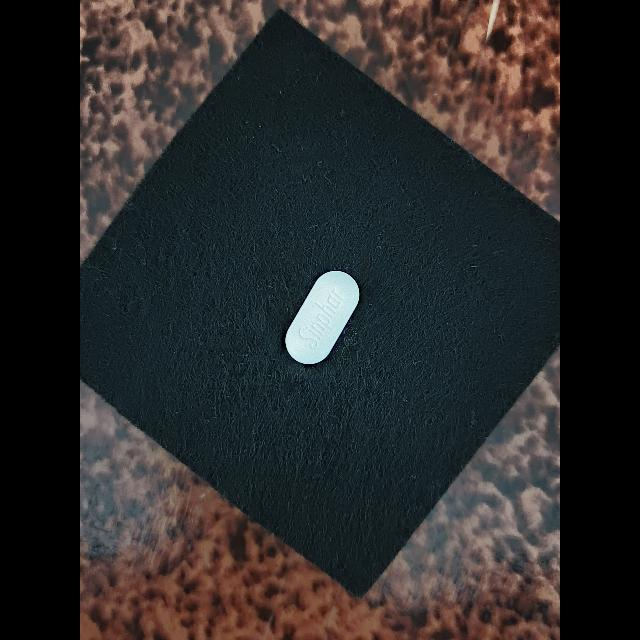Intact Pill: (285, 271, 360, 365)
